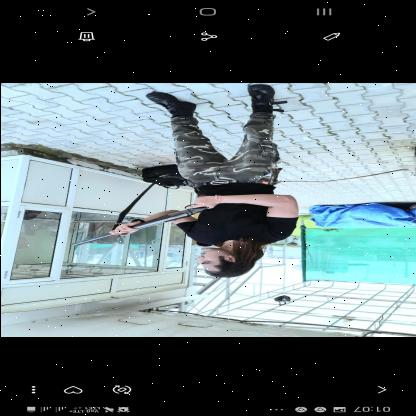rifle: (68, 192, 210, 246)
